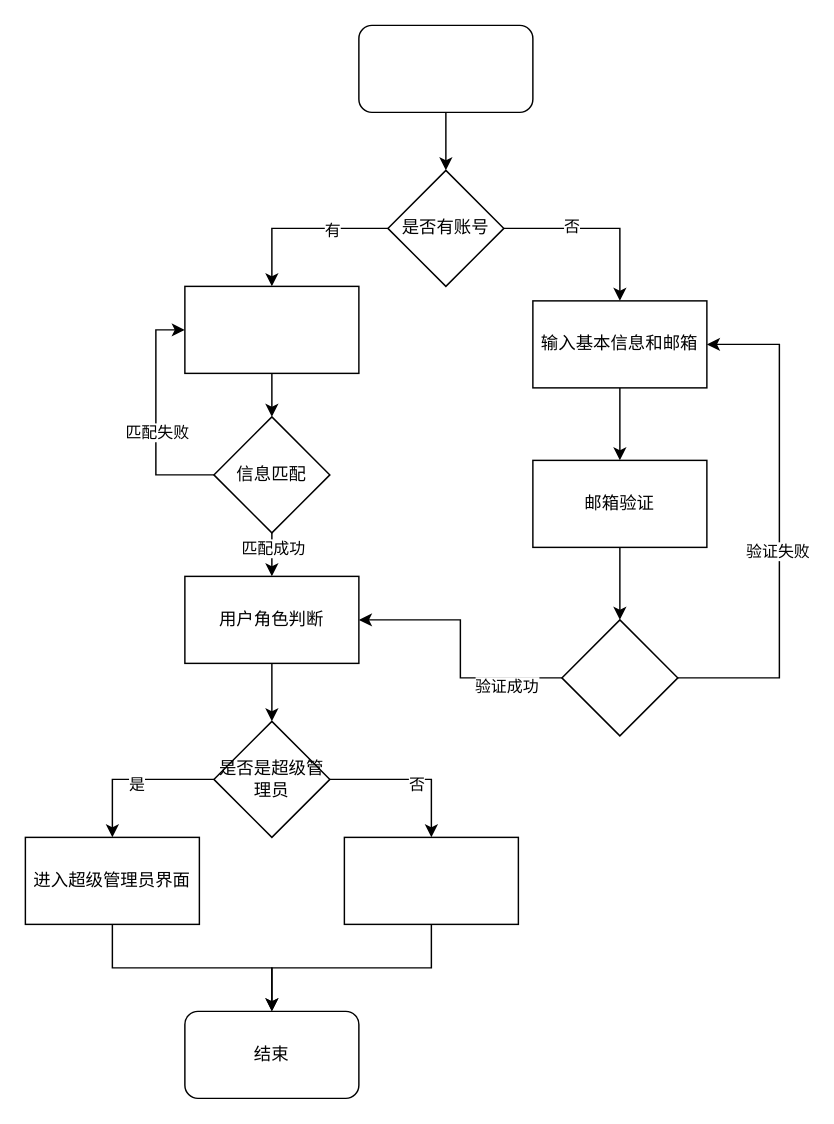
Some shapes in this 834 by 1124 pixel diagram are drawn without their labels. Each missing label, with the centre of its shape:
"开始" goes at point (445, 68).
"是否验证成功" goes at point (619, 677).
"输入账号密码" goes at point (271, 329).
"进入用户界面" goes at point (430, 880).
